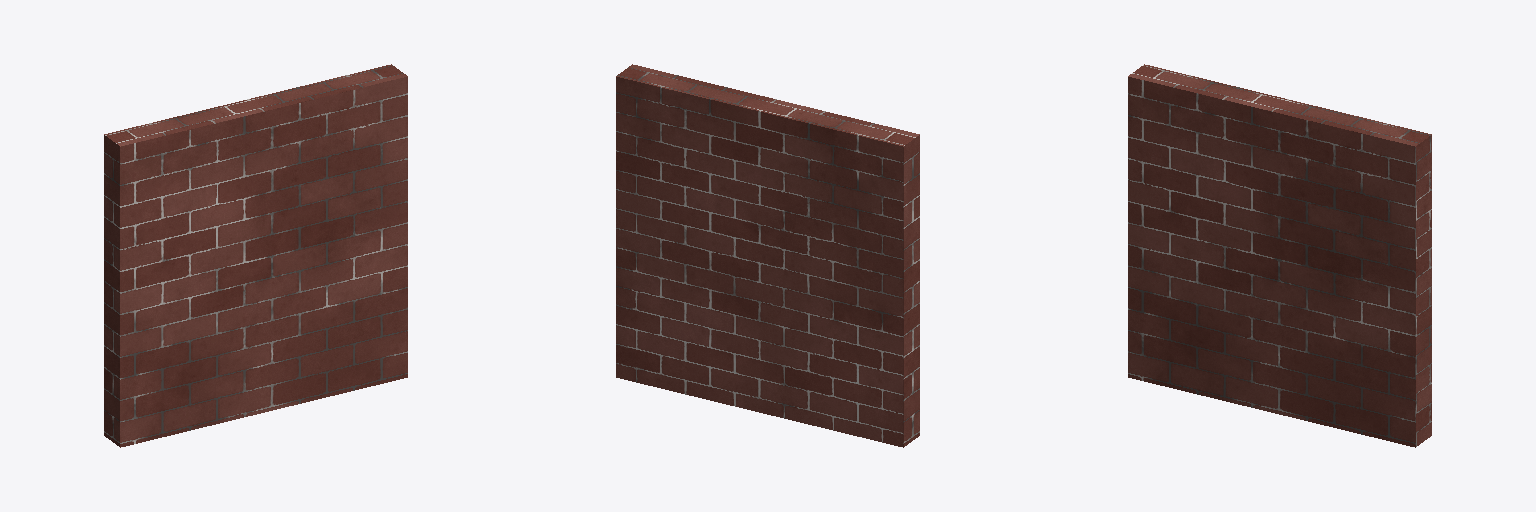
The picture shows the model from 3 angles: view 1: azimuth 30°, elevation 25°; view 2: azimuth 150°, elevation 25°; view 3: azimuth 330°, elevation 25°; orthographic projection.
Visible parts, largest first — view 1: pCube1; view 2: pCube1; view 3: pCube1.
Boxes of the visible parts, <box> form: pCube1: <box>104,64,407,447</box>; pCube1: <box>616,64,919,447</box>; pCube1: <box>1128,64,1431,447</box>.
Bounding box in the file's own units: 100 × 100 × 10.
Materials: 1 (1 with a texture image).